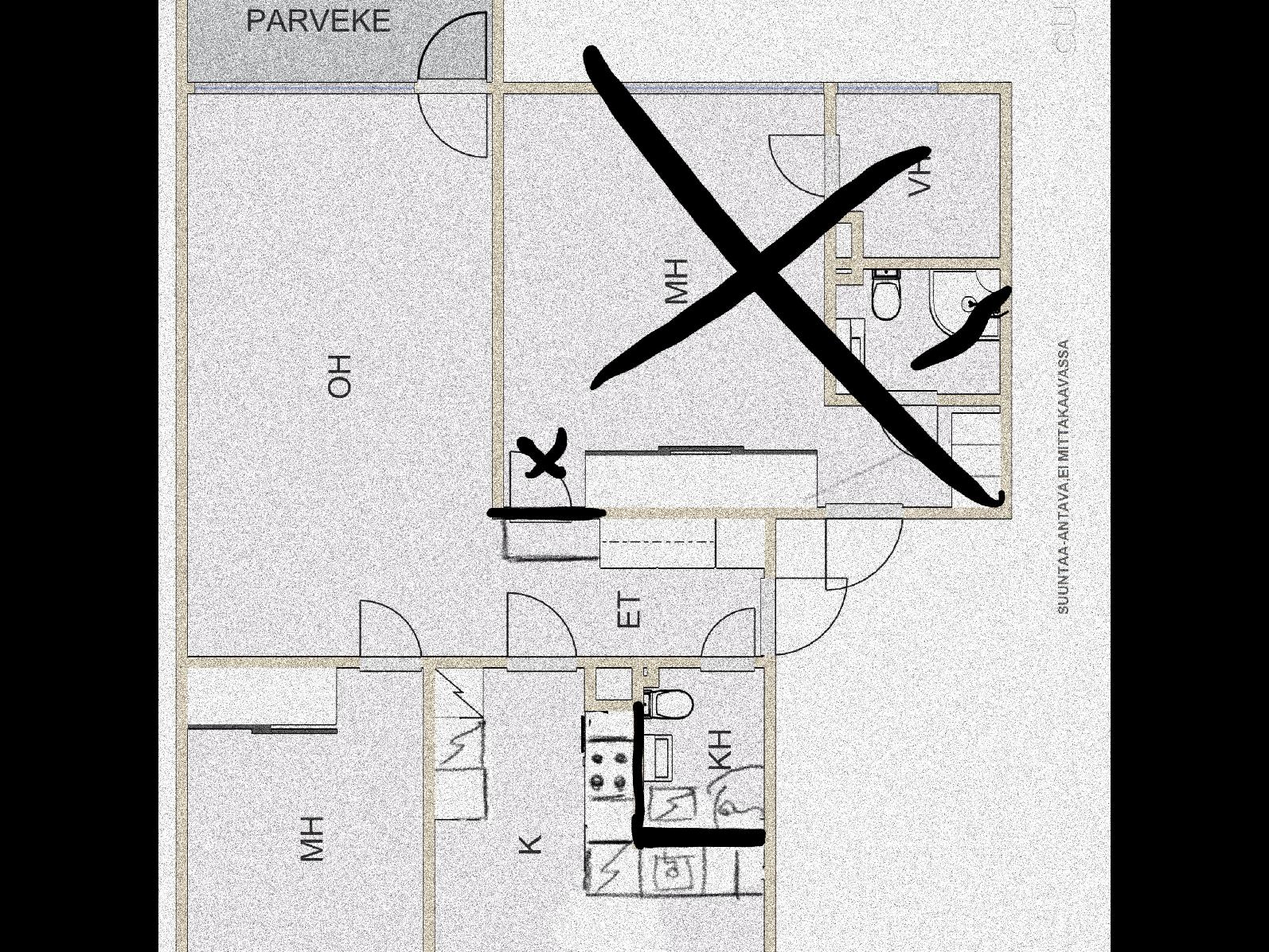door: (410, 1, 491, 161), (814, 492, 900, 589), (756, 566, 847, 653), (508, 580, 588, 673), (357, 593, 428, 677), (757, 130, 837, 201), (884, 387, 943, 459), (704, 605, 752, 677)
window: (193, 68, 421, 96), (834, 74, 944, 96), (627, 82, 825, 90)
zone: (185, 54, 764, 657), (505, 70, 1006, 506), (437, 669, 756, 952), (184, 664, 421, 952), (835, 96, 1005, 259), (834, 259, 1003, 406), (191, 0, 491, 77)
